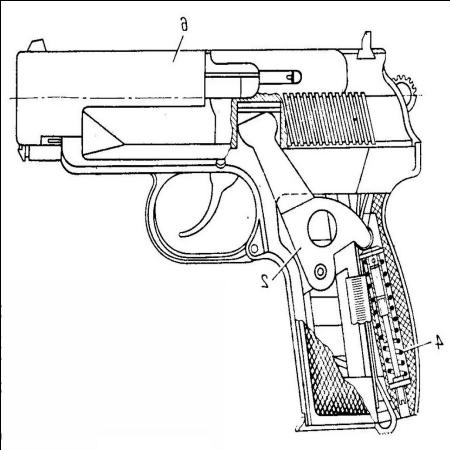Pistol: (15, 34, 421, 422)
